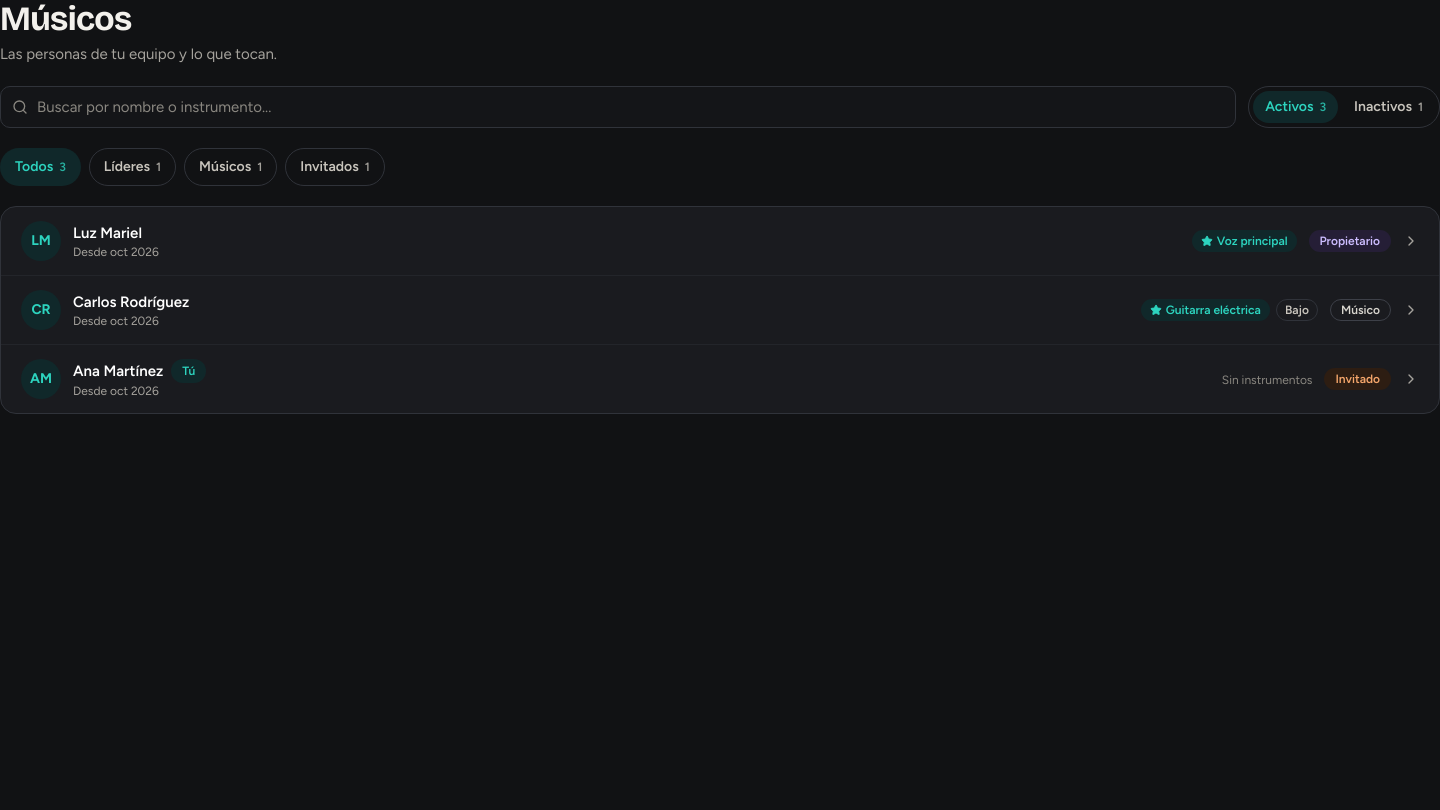
Test: MusiciansPage › un músico o invitado ve el contacto pero no la sección Editar
This screenshot has width=1440, height=810.
What coordinates should you click on to do the following:
click the button with aria-label "Ver ficha de Carlos Rodríguez"
I would click on:
 (41, 310)
Its box is [1, 275, 1439, 344].
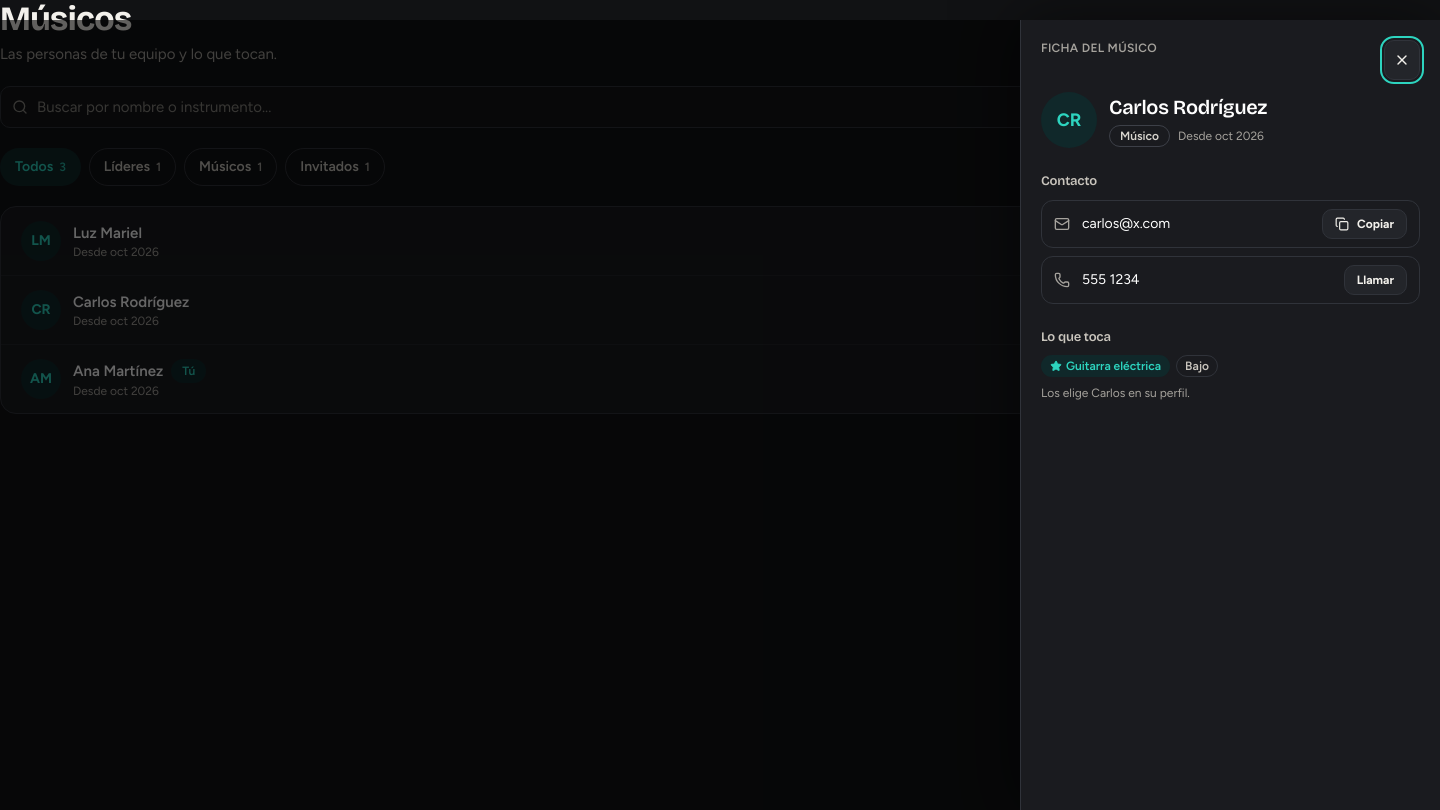
expect the text "carlos@x.com" is shown: met, box [1082, 214, 1170, 232]
expect the text "555 1234" is shown: met, box [1082, 270, 1140, 288]
